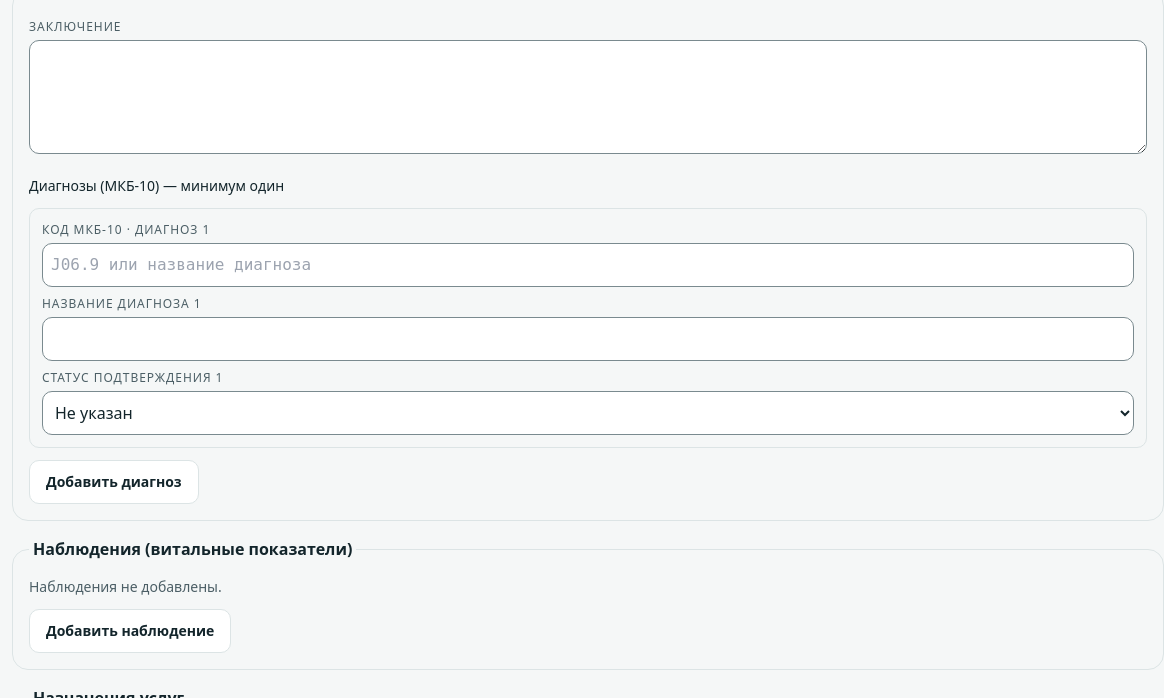
Scenario: EncounterCompleteForm server errors › should show the conflict banner with its code when the encounter was already completed
Type "ОРВИ, состояние удовлетворительное" into the text box labelled "Заключение" at (588, 97), box left=29, top=40, right=1147, bottom=154
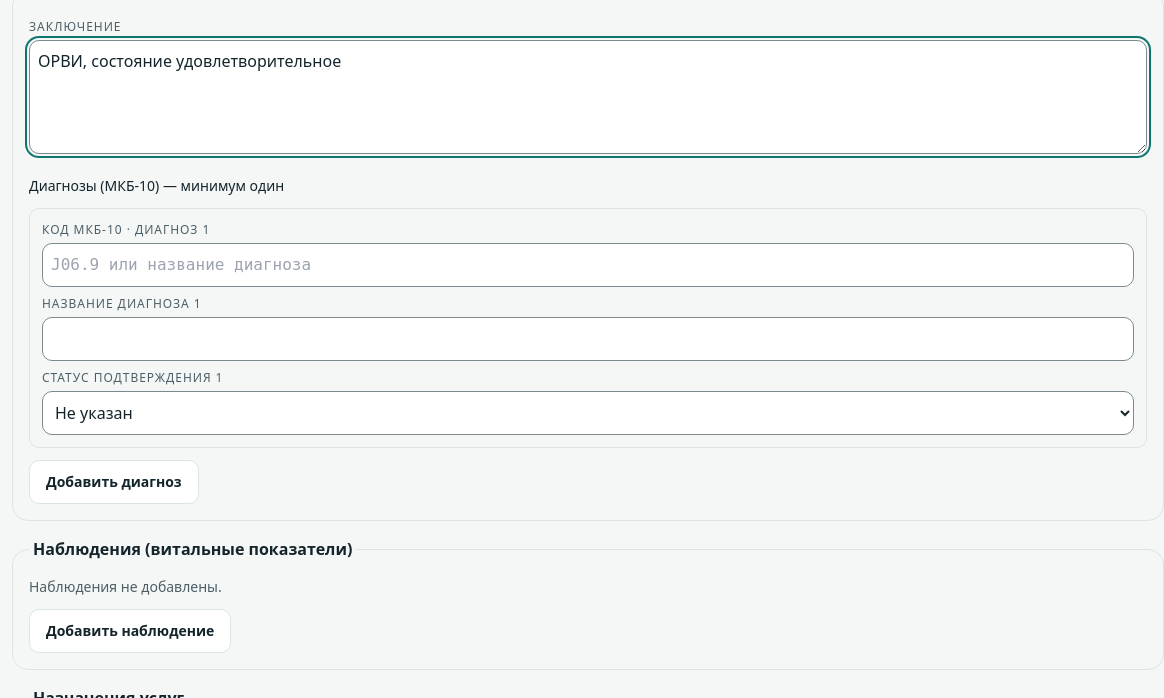
Type "Острый назофарингит" into the field labelled "Название диагноза 1" at (588, 339), box left=42, top=317, right=1134, bottom=361
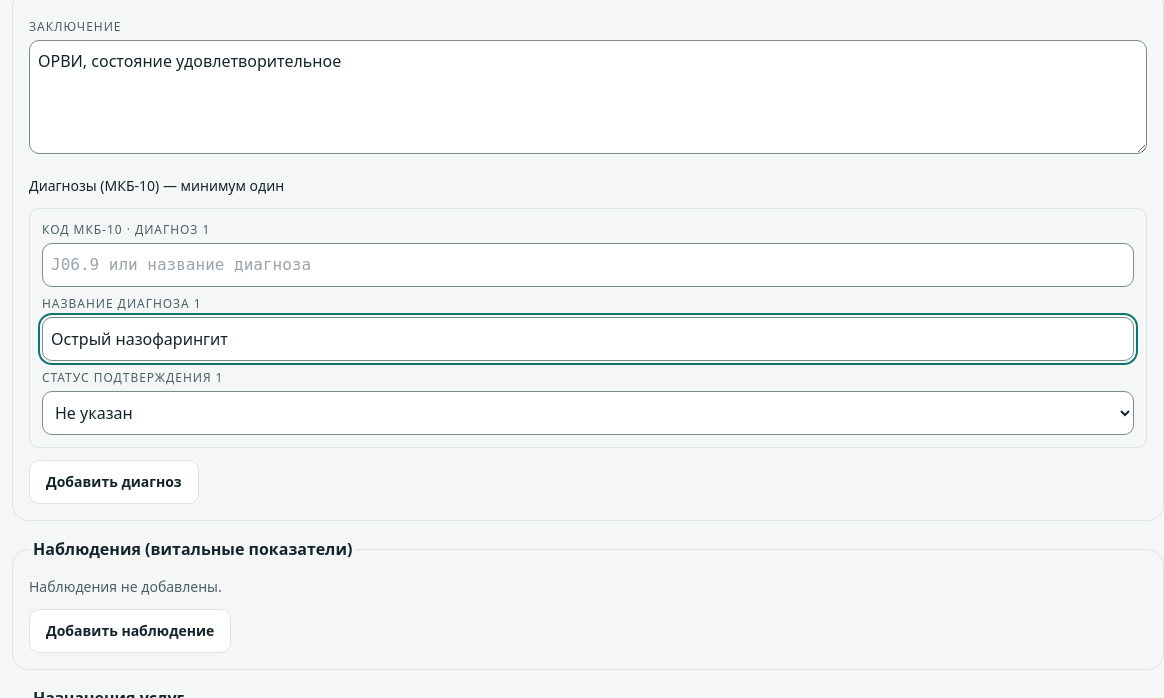
Type "J06.9" into the dropdown labelled "Код МКБ-10 · диагноз 1" at (588, 265), box left=42, top=243, right=1134, bottom=287
(page scrolled)
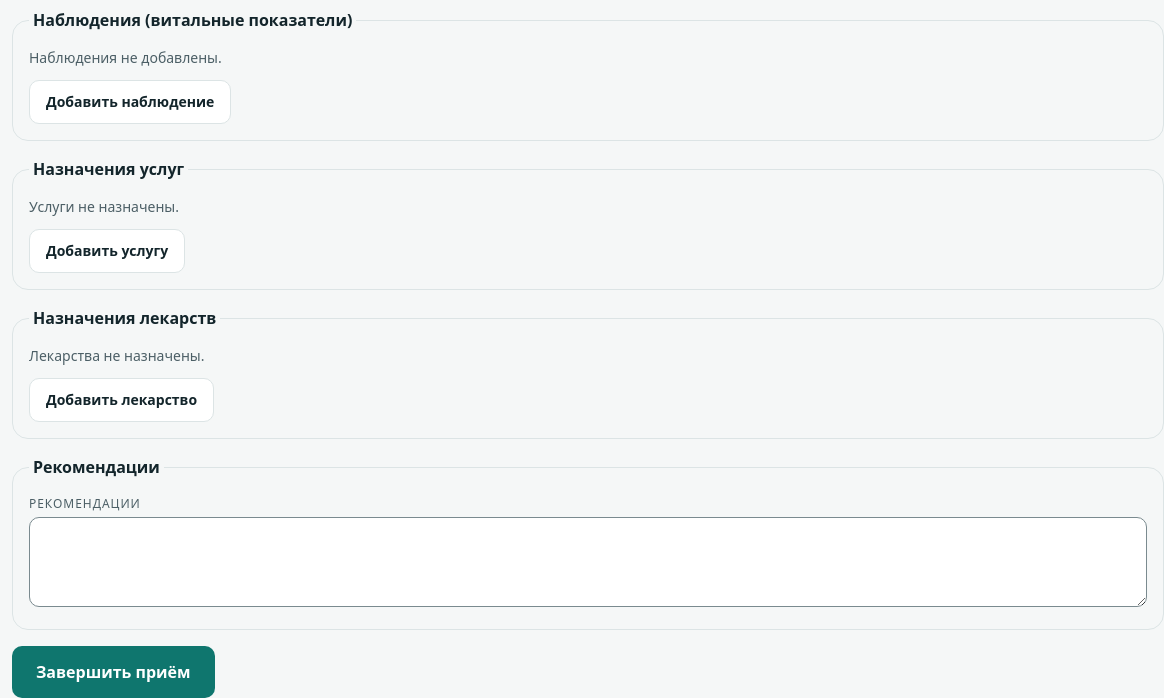
Type "Покой, обильное питьё" into the text box labelled "Рекомендации" at (588, 562), box left=29, top=517, right=1147, bottom=607
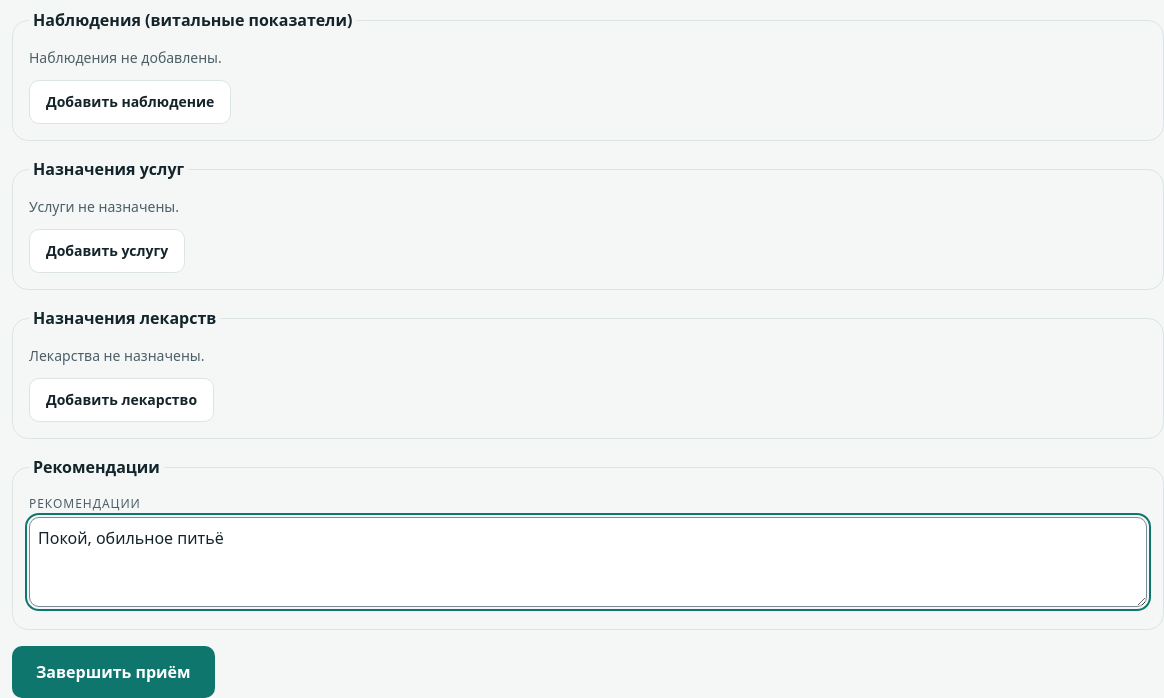
Click the button "Завершить приём" at (113, 672), box left=12, top=646, right=215, bottom=697
(page scrolled)
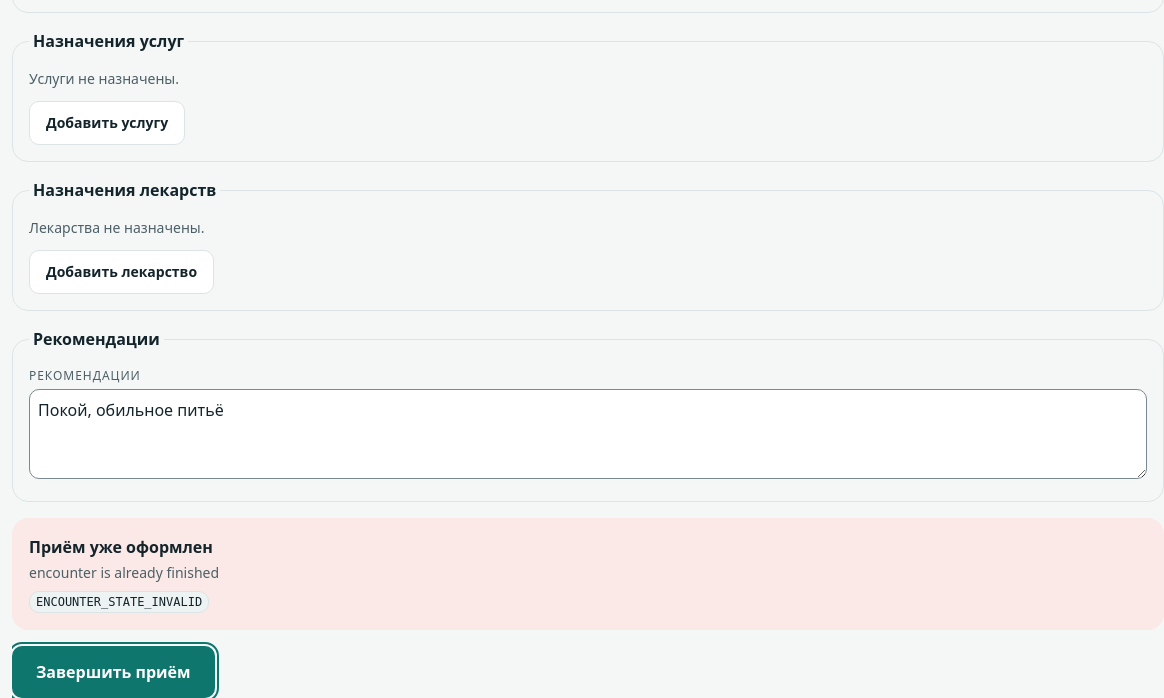
Expected: the text "Приём уже оформлен" is shown, left=29, top=536, right=213, bottom=558
Expected: the text "ENCOUNTER_STATE_INVALID" is shown, left=29, top=591, right=209, bottom=613
